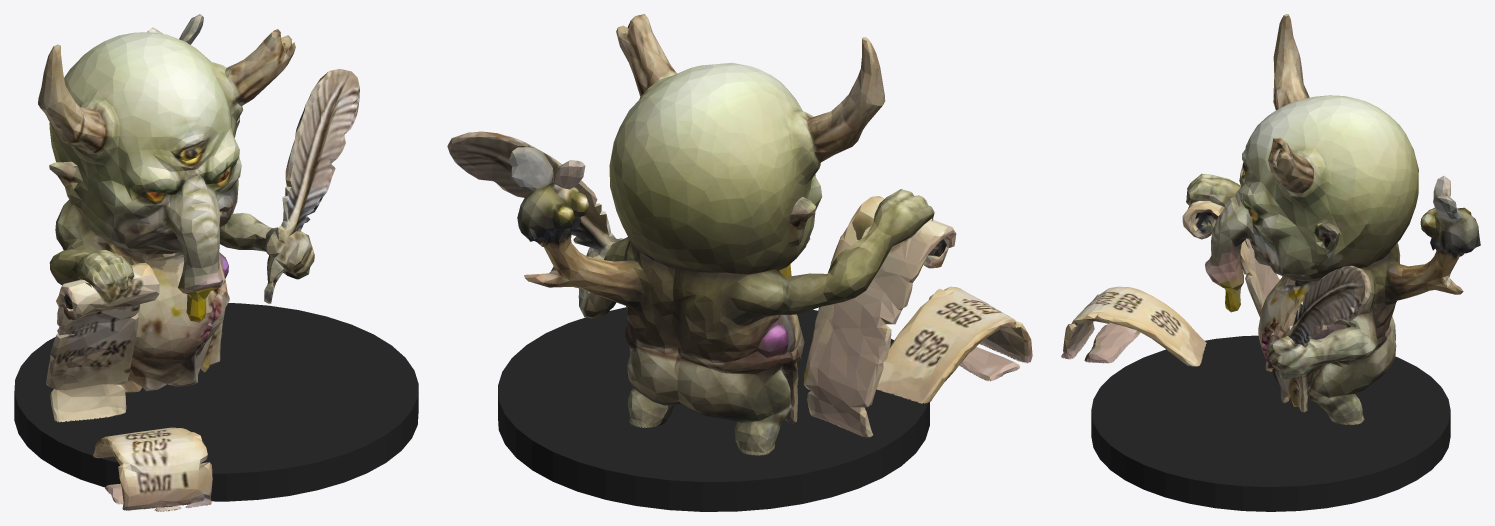
File: mon-spoilpox-scrivener.glb
The picture shows the model from 3 angles, left to right: view 1: azimuth 30°, elevation 25°; view 2: azimuth 150°, elevation 25°; view 3: azimuth 270°, elevation 25°; orthographic projection. The views are drawn at different scales.
Parts seen in each view (by area): view 1: figure, base; view 2: figure, base; view 3: figure, base.
Boxes of the visible parts, x1,y1,x2,y2 form: figure: (38,14,359,511); base: (14,303,418,501); figure: (447,14,1032,455); base: (498,307,929,511); figure: (1061,14,1480,424); base: (1091,335,1450,511).
Size of the model in its own units: 1.76 by 1.72 by 1.84.
2 materials, 1 textured.
